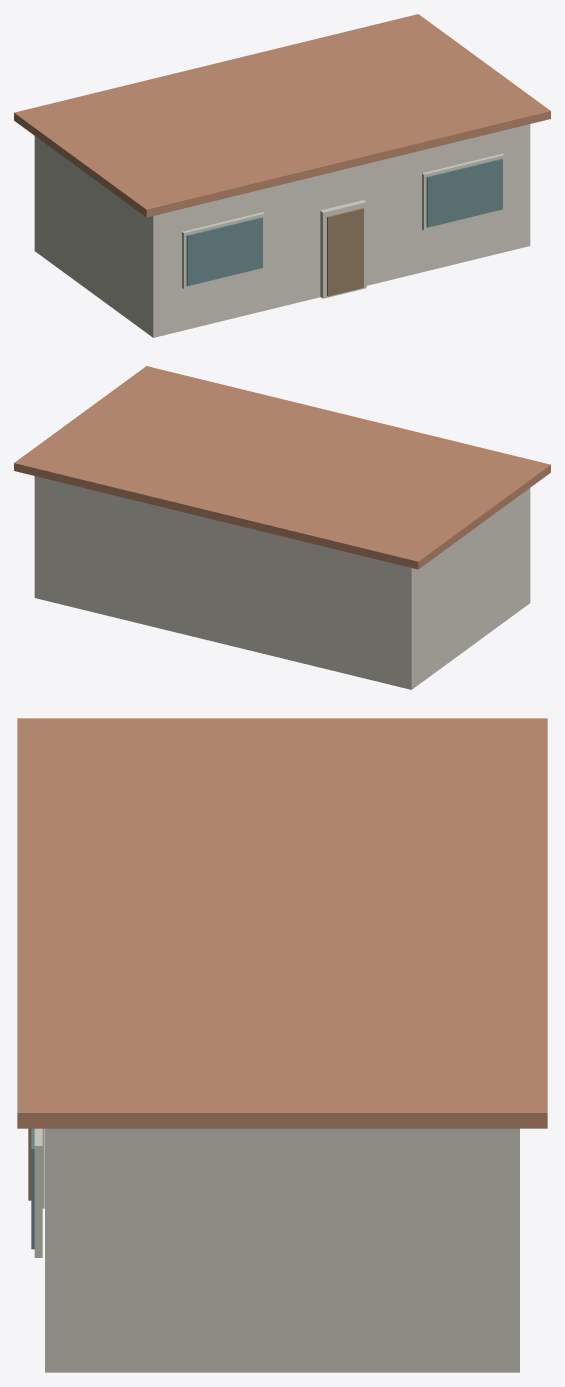
3 renders of one model, top to bottom at view 1: azimuth 30°, elevation 25°; view 2: azimuth 150°, elevation 25°; view 3: azimuth 270°, elevation 25°, orthographic. The views are drawn at different scales.
Size of the model in its own units: 11.8 by 3.81 by 6.7.
